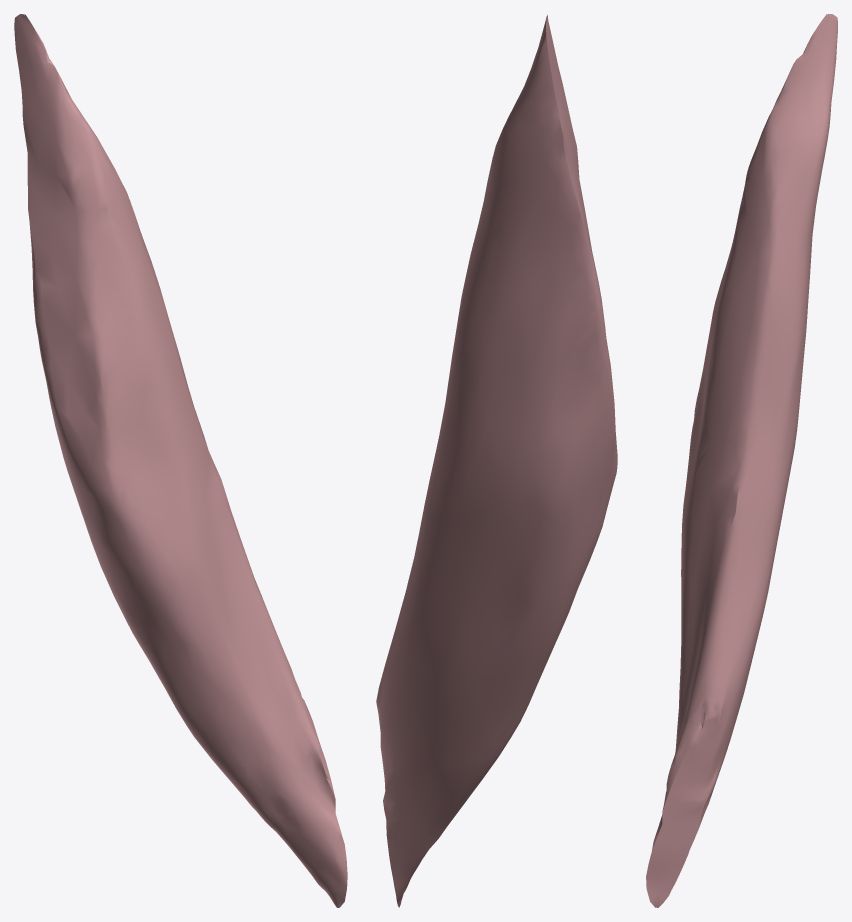
Rendered from fma297802_mm1871m.glb.
3 renders of one model, left to right at view 1: azimuth 30°, elevation 25°; view 2: azimuth 150°, elevation 25°; view 3: azimuth 270°, elevation 25°, orthographic. The views are drawn at different scales.
Visible parts, largest first — view 1: FMA297802_MM1871M; view 2: FMA297802_MM1871M; view 3: FMA297802_MM1871M.
Part boxes in pixels (<box>): FMA297802_MM1871M: <box>14,14,347,907</box>; FMA297802_MM1871M: <box>376,14,617,907</box>; FMA297802_MM1871M: <box>646,14,837,907</box>.
Size of the model in its own units: 0.0365 by 0.127 by 0.0277.
